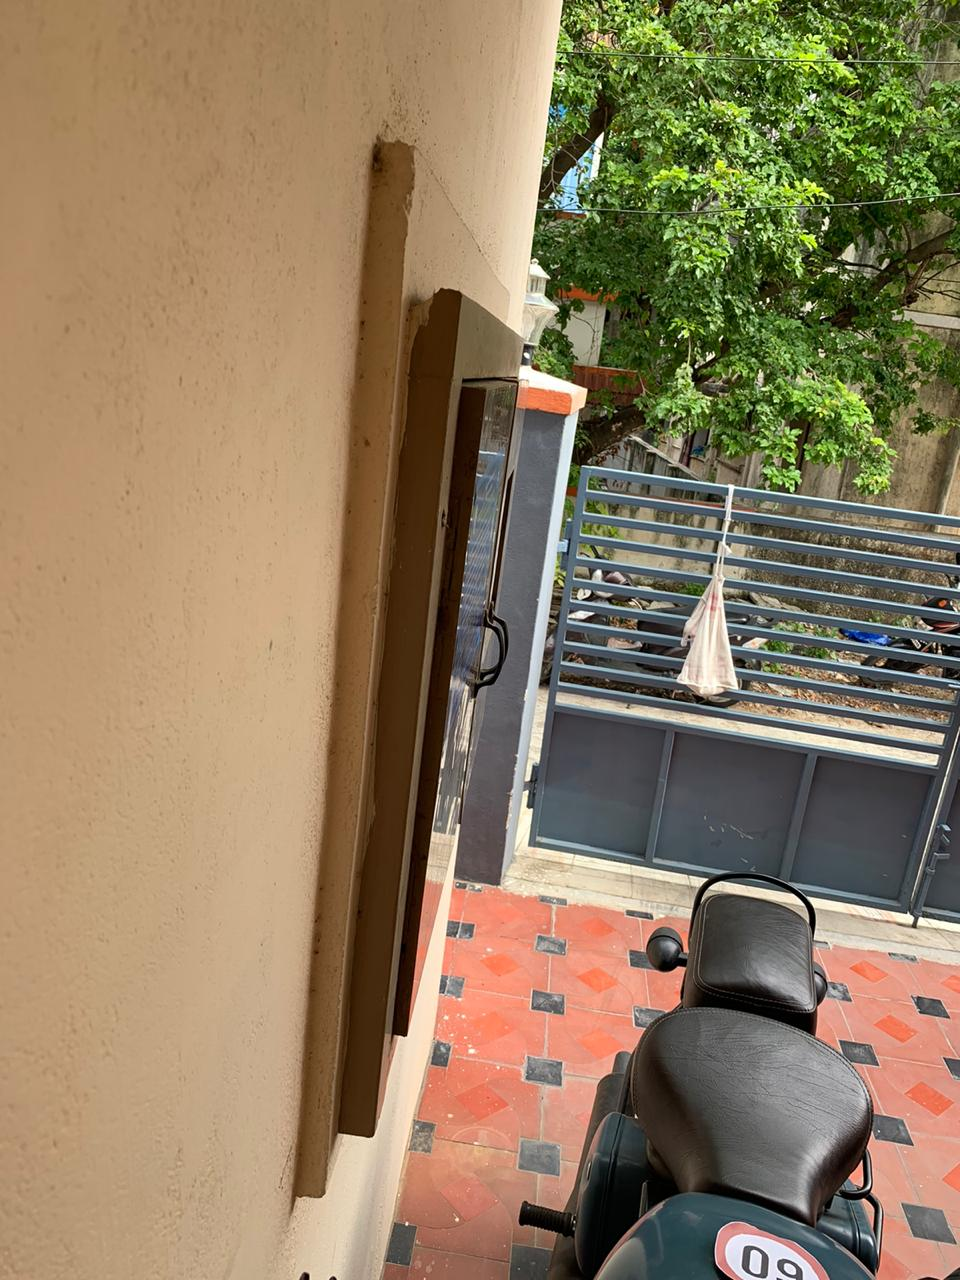SPEED LIMIT (60 KM/H): (694, 1198, 834, 1280)
